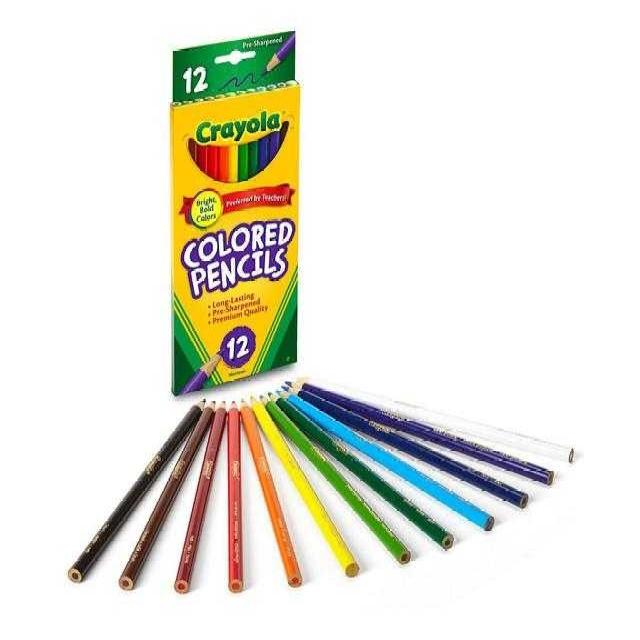pencil: (278, 384, 506, 547), (256, 385, 433, 573), (54, 394, 217, 591), (103, 391, 225, 597), (247, 381, 367, 587), (235, 389, 316, 603), (168, 394, 235, 596), (222, 393, 252, 596)
